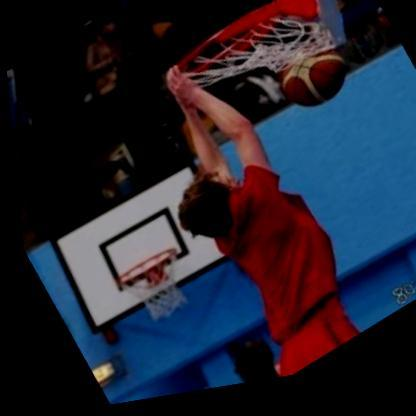basketball: (259, 33, 361, 137)
